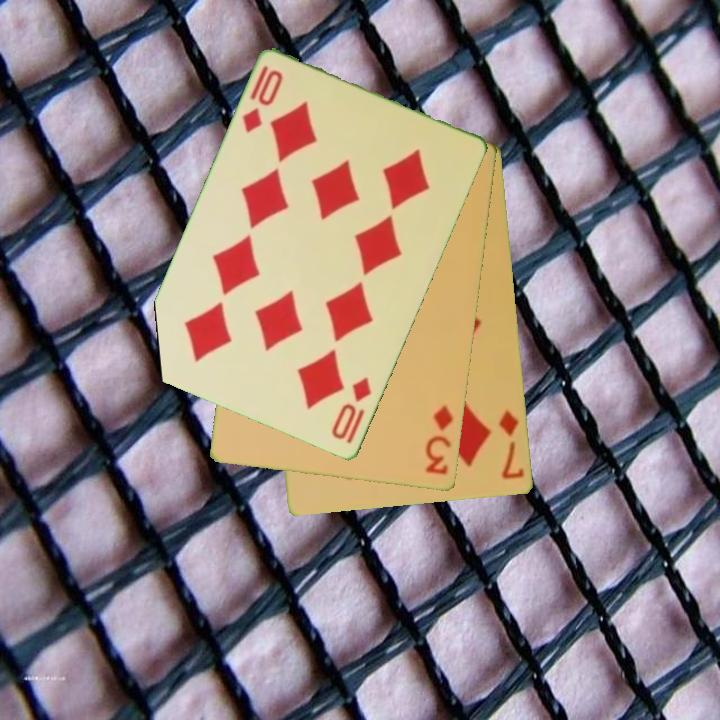10d: (239, 62, 286, 136), (328, 374, 375, 447)
3d: (422, 402, 456, 478)
7d: (496, 407, 528, 482)
